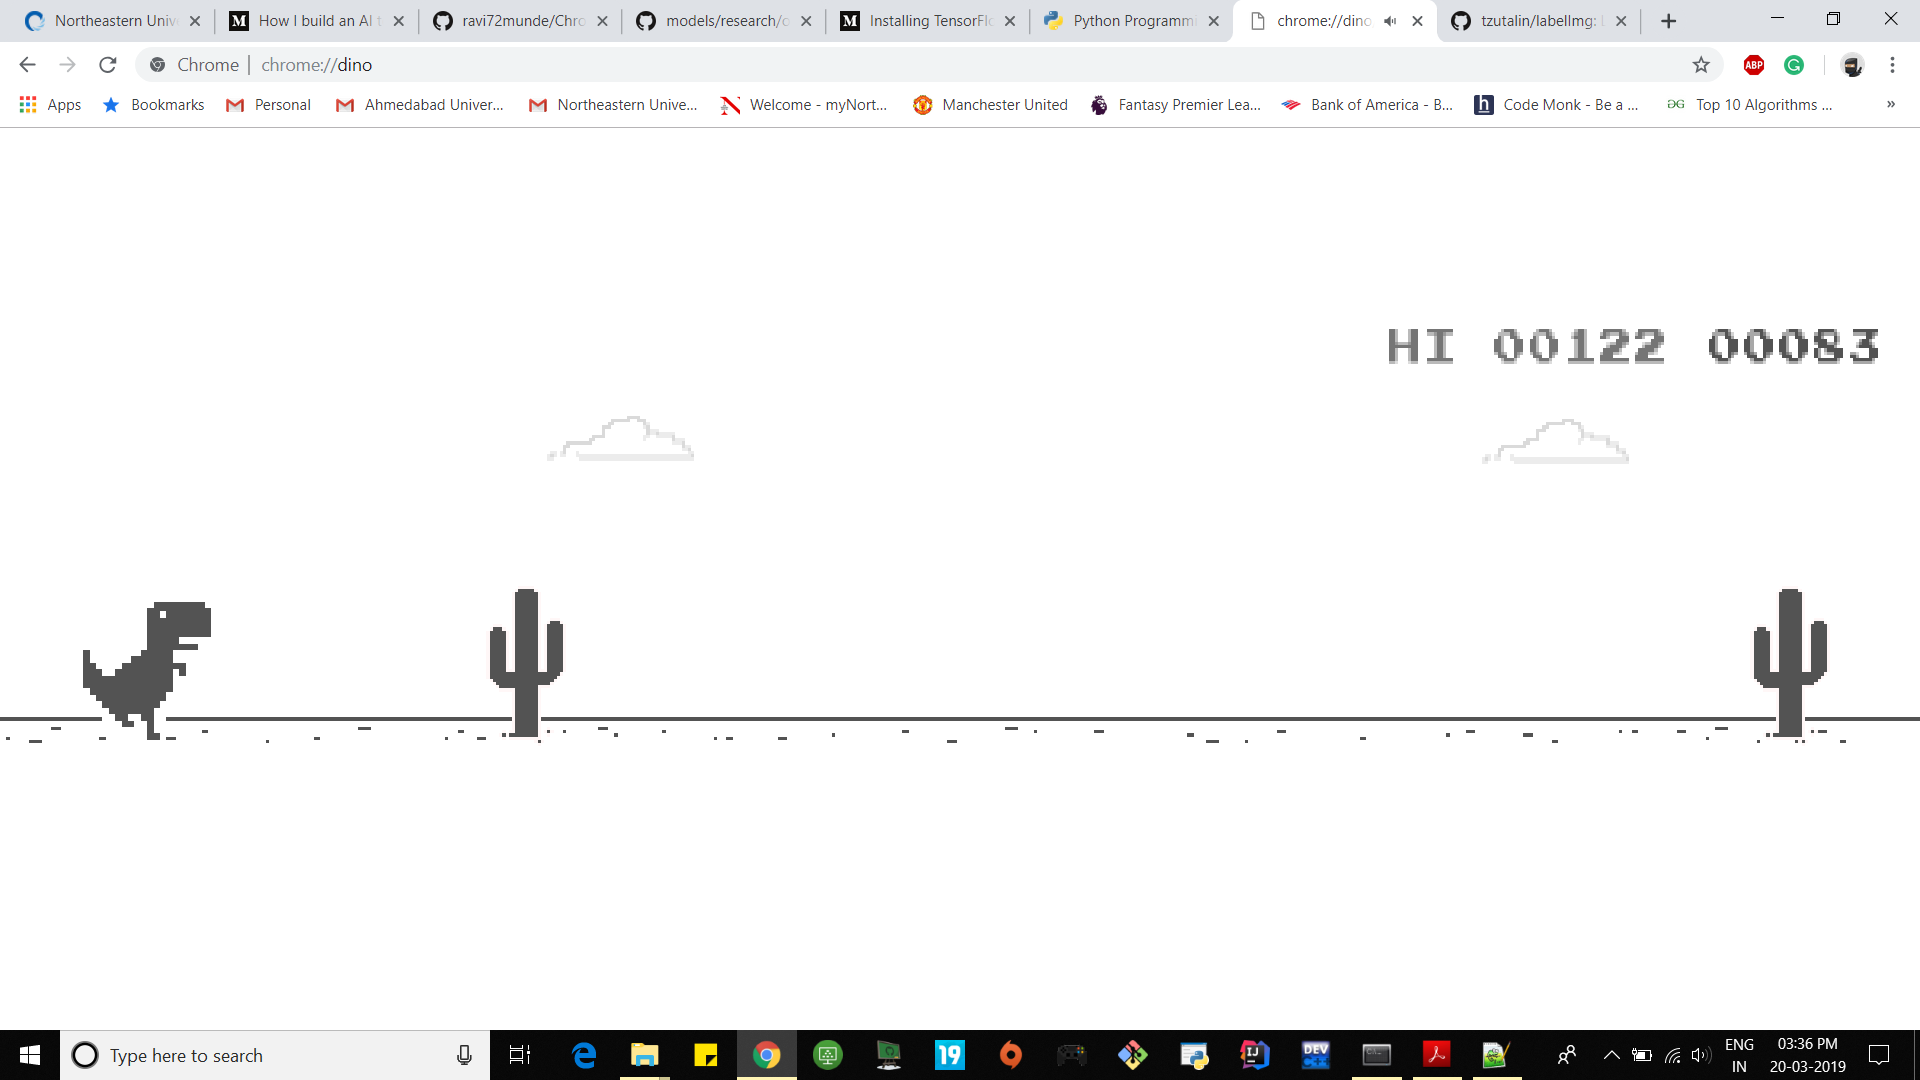cactus-1: (1750, 585, 1832, 740), (483, 587, 564, 738)
dino: (79, 596, 216, 740)
